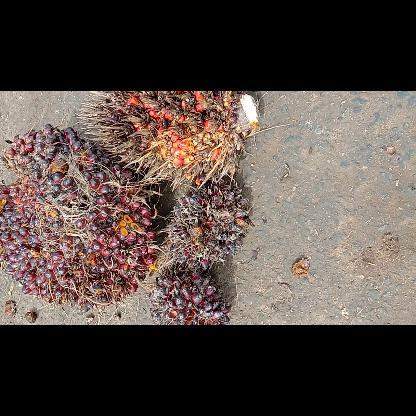TBS abnormal: (166, 178, 254, 270), (148, 262, 232, 324)
TBS masak: (0, 122, 158, 316)
Terlalu masak: (71, 92, 261, 192)
